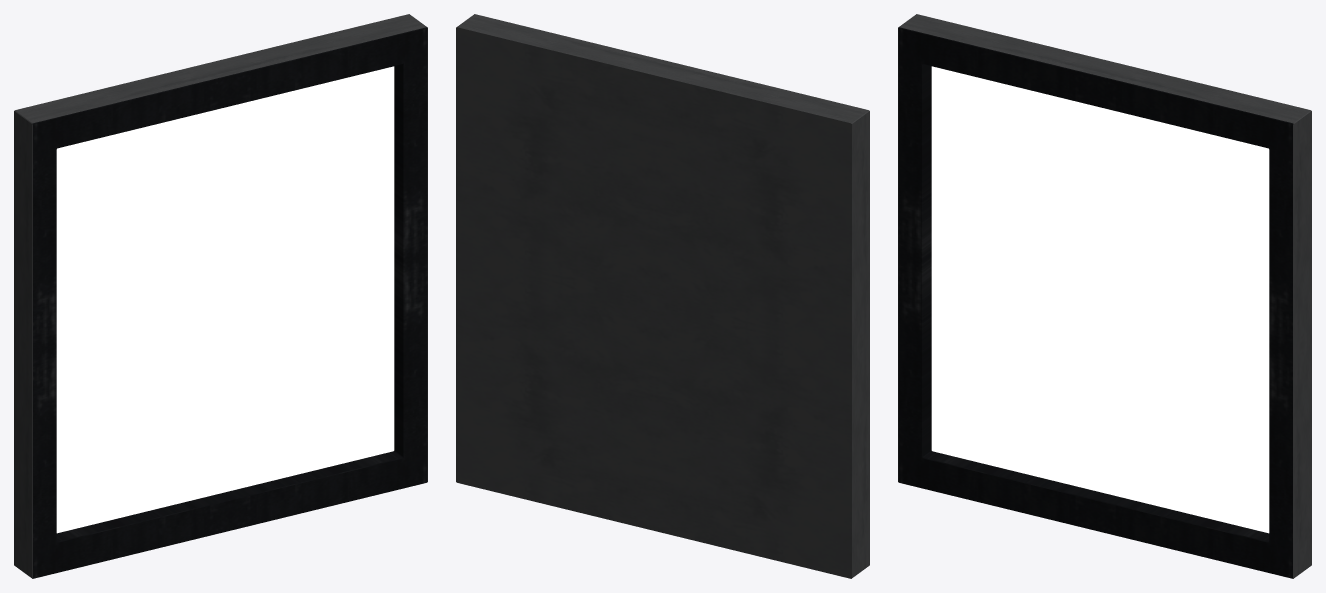
The model's file is SignBoards_2.fbx.
3 renders of one model, left to right at view 1: azimuth 30°, elevation 25°; view 2: azimuth 150°, elevation 25°; view 3: azimuth 330°, elevation 25°, orthographic.
Visible parts, largest first — view 1: SignBoards_2; view 2: SignBoards_2; view 3: SignBoards_2.
Part boxes in pixels (x1,y1,x2,y2): SignBoards_2: [14, 14, 427, 578]; SignBoards_2: [456, 14, 869, 578]; SignBoards_2: [898, 14, 1311, 578].
Bounding box in the file's own units: 2 × 2.2 × 0.16.
